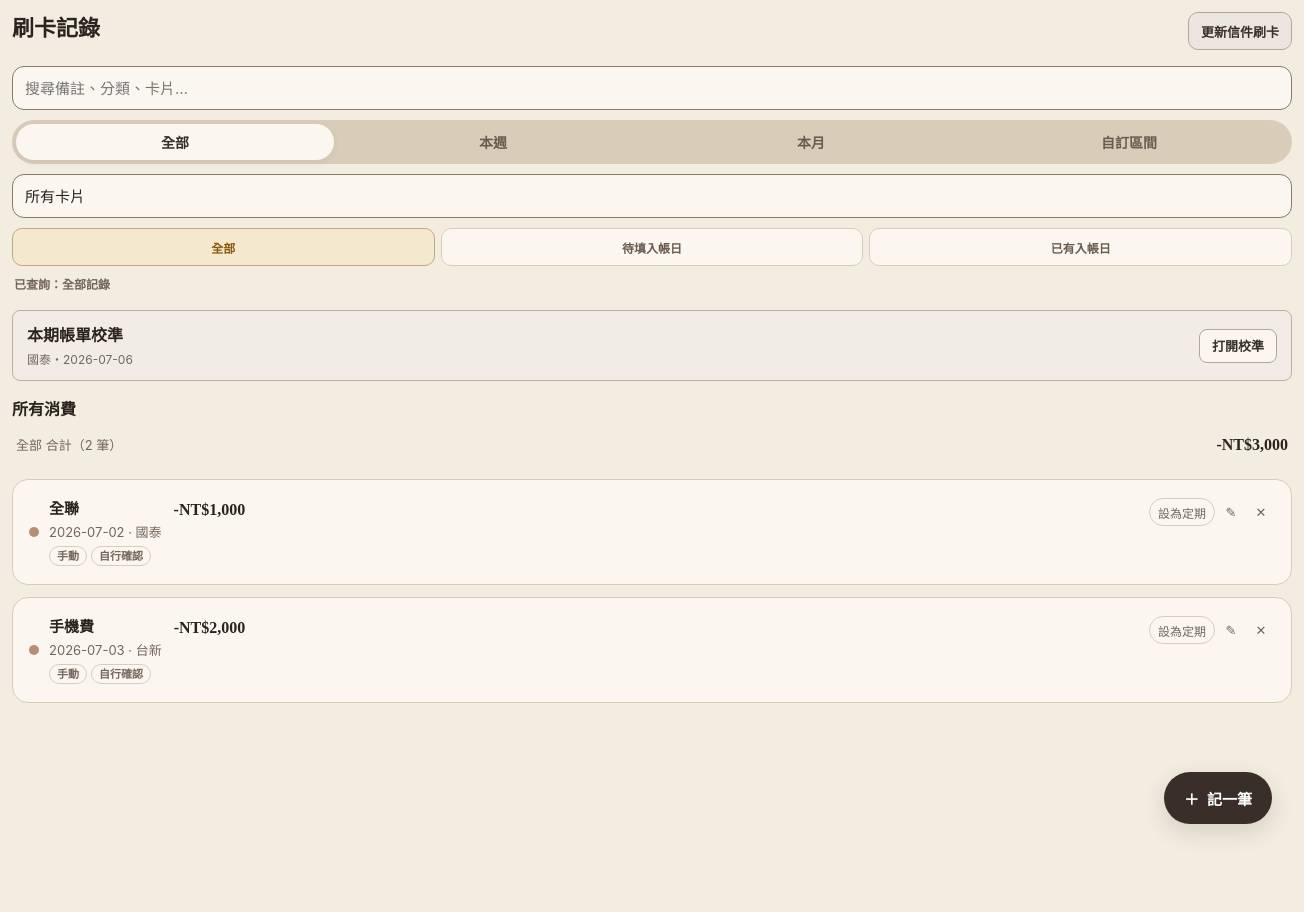
Test case: Transactions import entry › points the calibration panel at whichever card the list is filtered to
Expected: the element with class "tx-statement-card" shows "國泰", [27, 352, 51, 367]
Select "台新" in the dropdown with class "tx-card-select" at (652, 196), box [12, 174, 1292, 218]
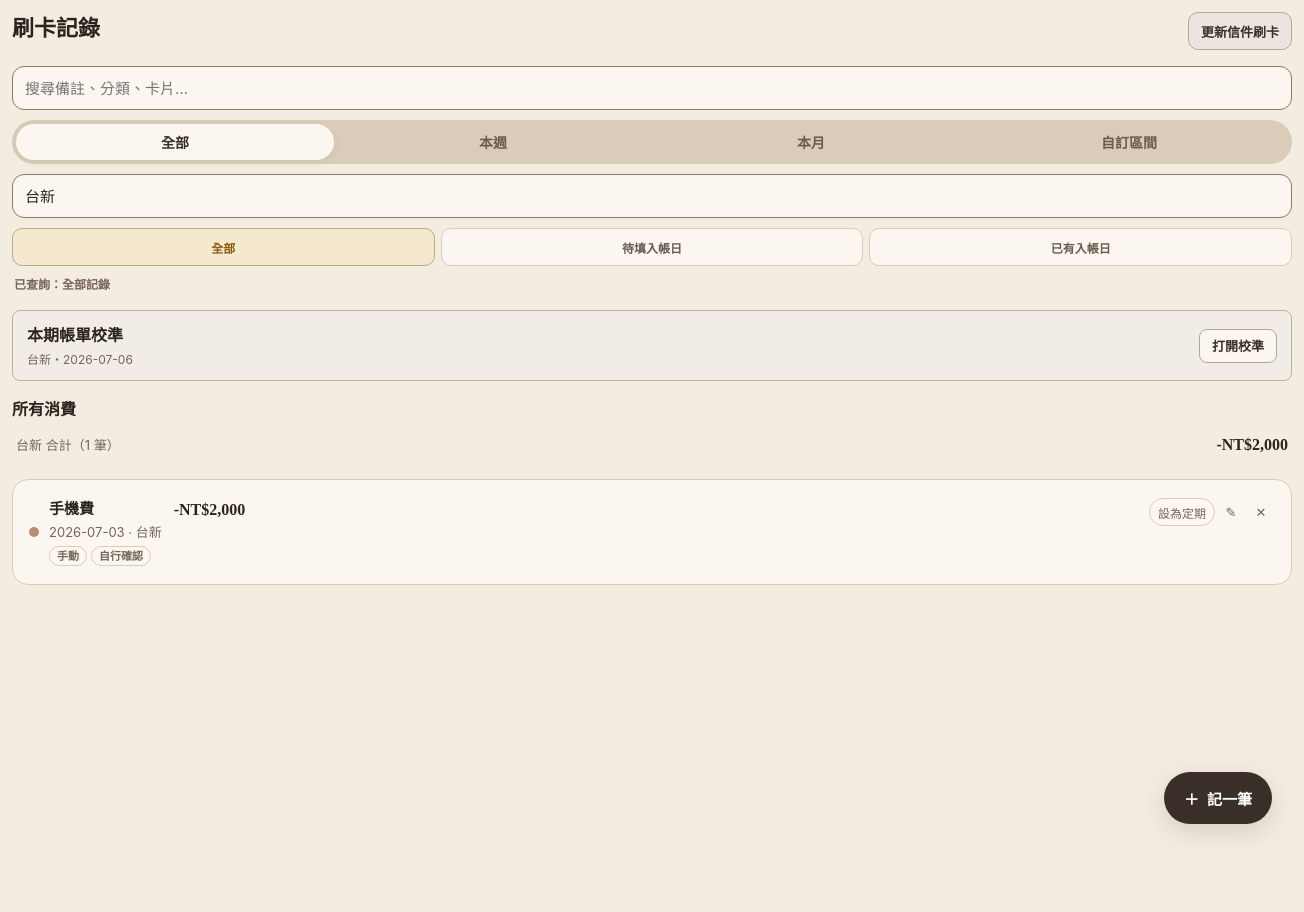
Expected: the element with class "tx-statement-card" shows "台新", [27, 352, 51, 367]
Expected: the text with class "tx-statement-card" no longer shows "國泰"
